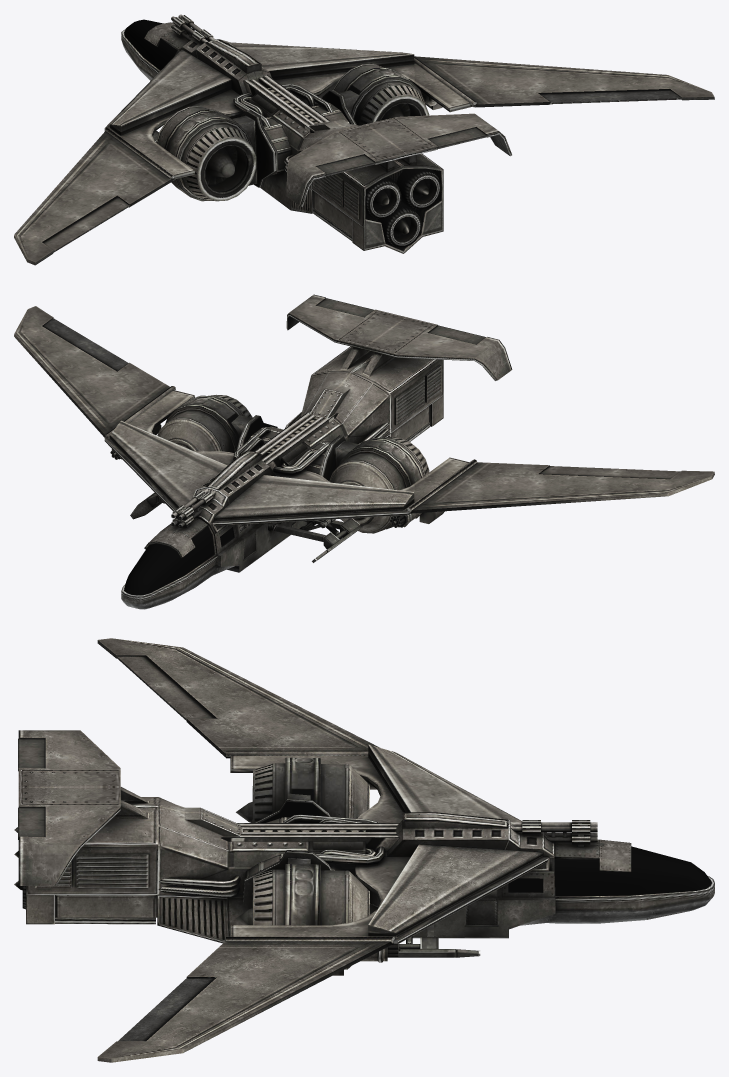
File: Player.fbx
3 renders of one model, top to bottom at view 1: azimuth 30°, elevation 25°; view 2: azimuth 150°, elevation 25°; view 3: azimuth 270°, elevation 25°, orthographic. The views are drawn at different scales.
Visible parts, largest first — view 1: cambot_FLY:Mesh; view 2: cambot_FLY:Mesh; view 3: cambot_FLY:Mesh.
Boxes of the visible parts, <box> form: cambot_FLY:Mesh: <box>14,14,714,265</box>; cambot_FLY:Mesh: <box>14,294,714,609</box>; cambot_FLY:Mesh: <box>14,638,714,1062</box>.
Bounding box in the file's own units: 10382 × 1651 × 7304.
Materials: 1 (1 with a texture image).
